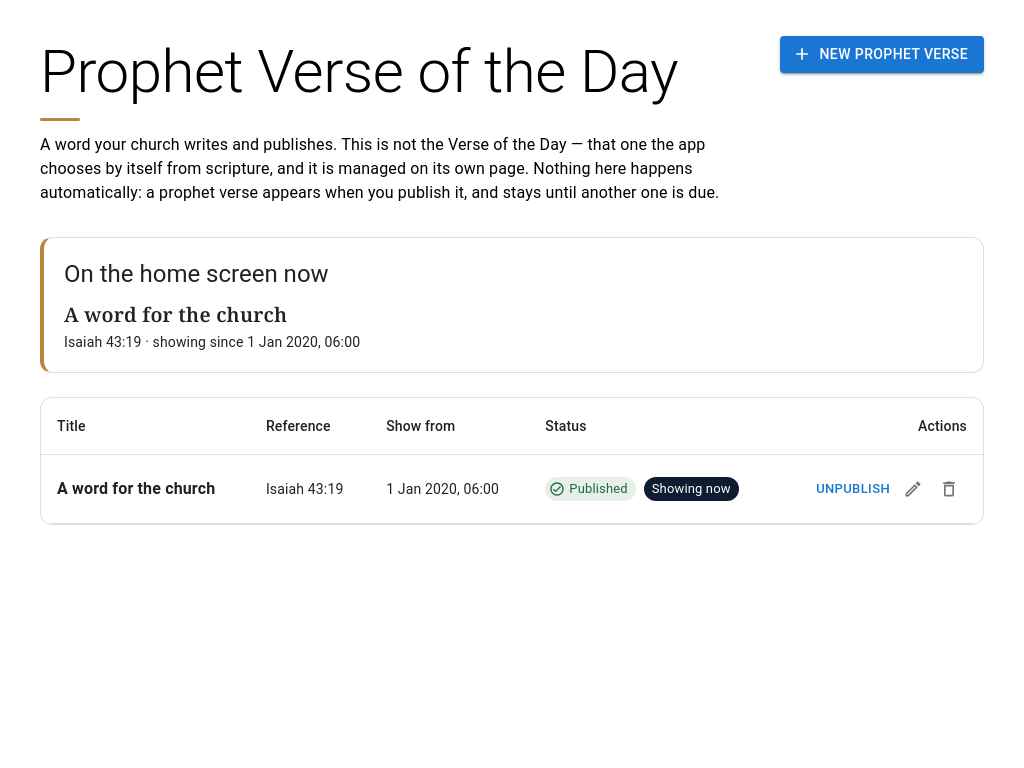
Test: deleting › asks first, and names what will go
This screenshot has width=1024, height=768.
Click the button with test id "delete-prophet-verse-p1" at (949, 489), box [931,471,967,507]
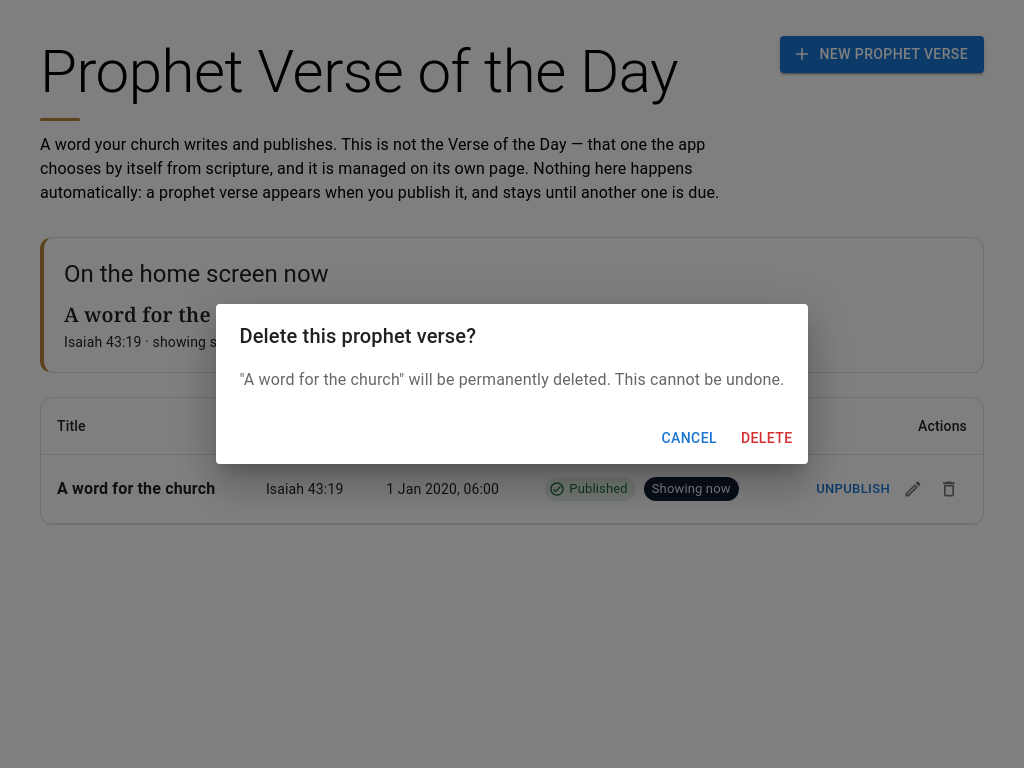
Now the text "\"A word for the church\" will be permanently deleted" is shown, box [240,370,784,389]
